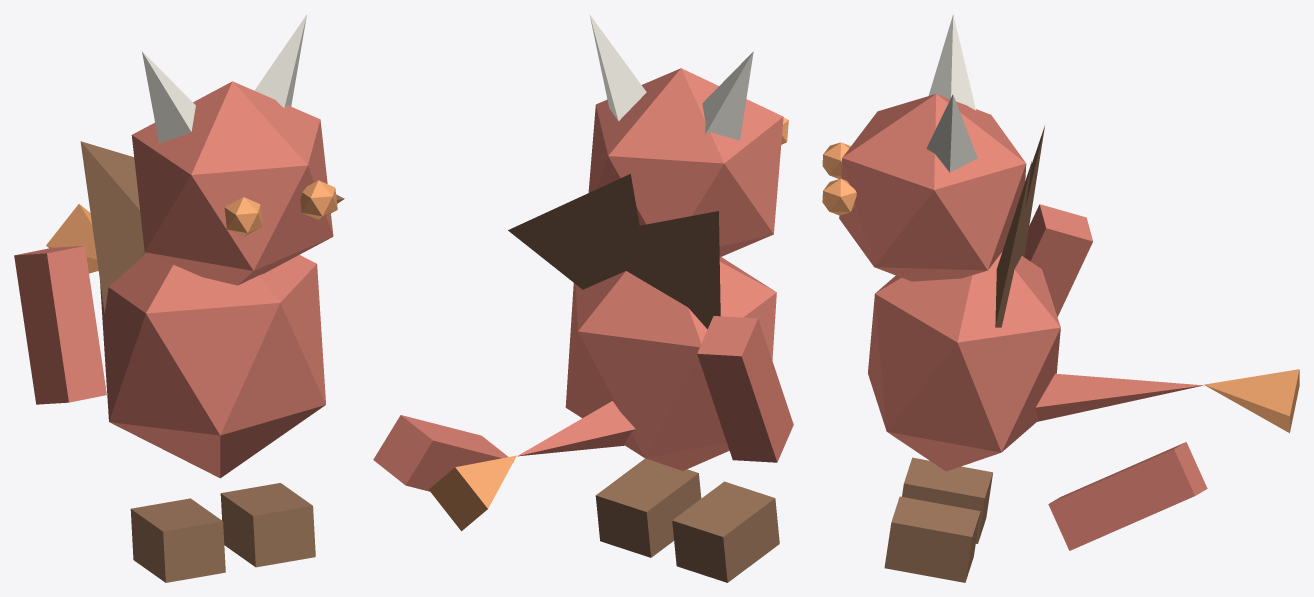
Rendered from npcpose_imp_attack_10.glb.
3 views of the same model, side by side, from view 1: azimuth 30°, elevation 25°; view 2: azimuth 150°, elevation 25°; view 3: azimuth 270°, elevation 25° (orthographic). The views are drawn at different scales.
Parts seen in each view (by area): view 1: npcpose; view 2: npcpose; view 3: npcpose.
Boxes of the visible parts, <box> form: npcpose: <box>14,14,344,582</box>; npcpose: <box>373,14,793,582</box>; npcpose: <box>822,14,1299,582</box>.
Bounding box in the file's own units: 0.6847 × 1.07 × 0.9256.
